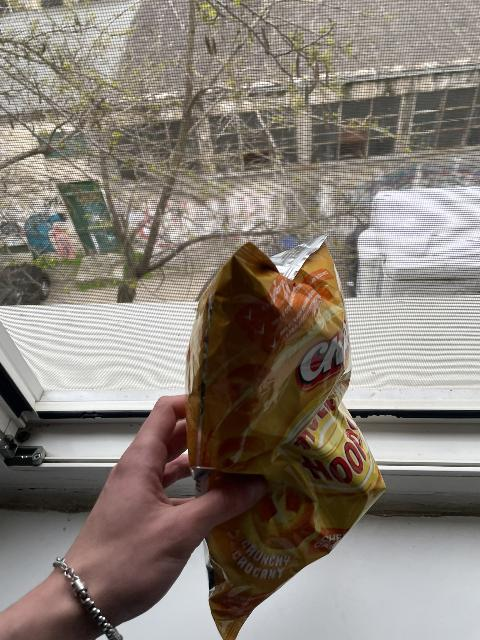Chio Hula Hoops Cheese 70g: (184, 233, 386, 638)
